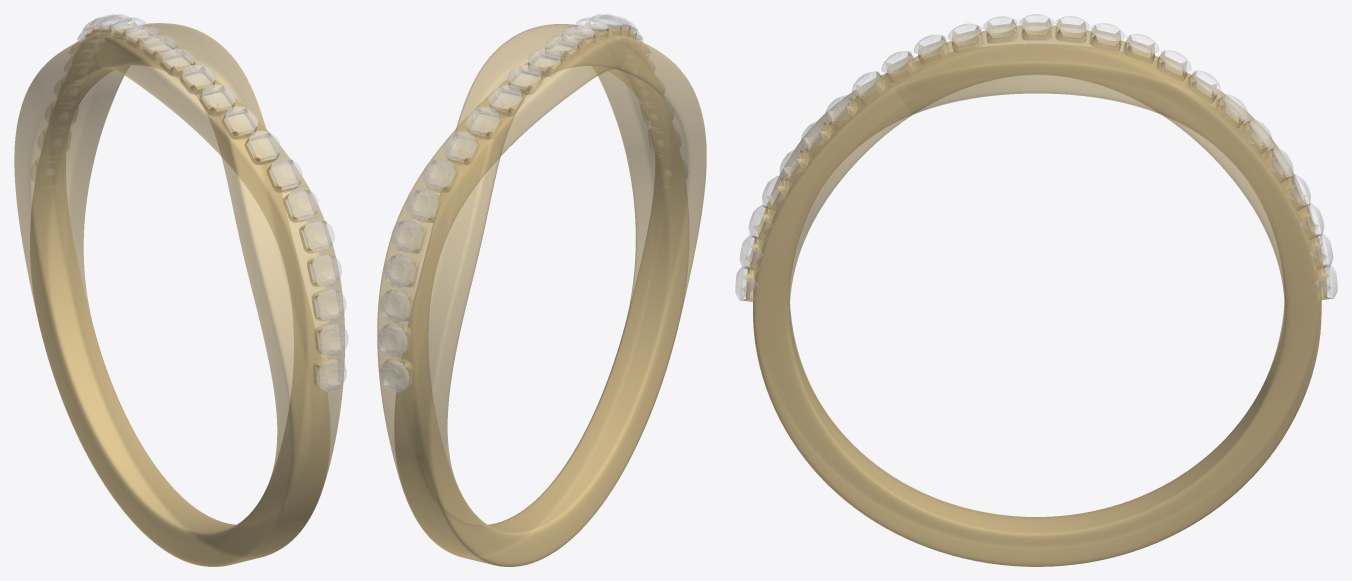
3 views of the same model, side by side, from view 1: azimuth 30°, elevation 25°; view 2: azimuth 150°, elevation 25°; view 3: azimuth 270°, elevation 25° (orthographic). The views are drawn at different scales.
Parts seen in each view (by area): view 1: ring, diamong; view 2: ring, diamong; view 3: ring, diamong.
Boxes of the visible parts, x1,y1,x2,y2 form: ring: (14, 19, 344, 566); diamong: (31, 14, 348, 391); ring: (377, 19, 706, 566); diamong: (378, 14, 687, 391); ring: (741, 18, 1331, 566); diamong: (735, 14, 1337, 300).
Size of the model in its own units: 0.3656 by 2.31 by 2.37.
